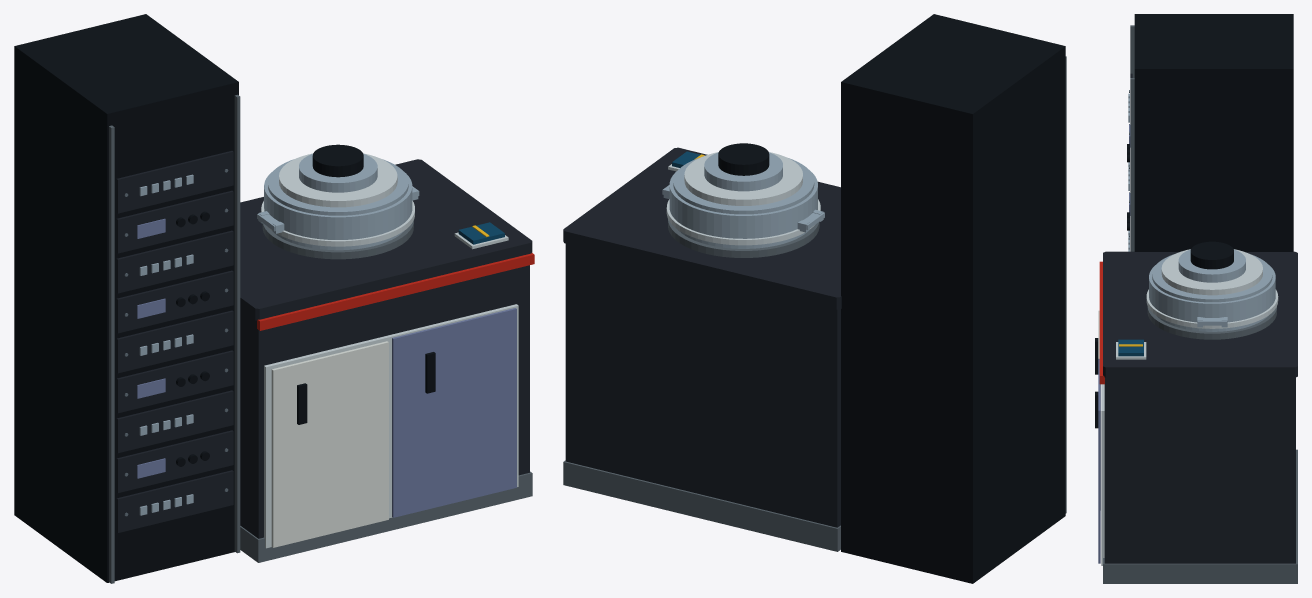
Rendered from bjd-1800-witness.glb.
3 renders of one model, left to right at view 1: azimuth 30°, elevation 25°; view 2: azimuth 150°, elevation 25°; view 3: azimuth 270°, elevation 25°, orthographic. The views are drawn at different scales.
Parts seen in each view (by area): view 1: bench, intake_rack, static_panels, display_cover, chamber_base, optical_card; view 2: intake_rack, bench, display_cover, chamber_base; view 3: bench, intake_rack, display_cover, chamber_base, optical_card, static_panels.
Part boxes in pixels (box(x1,y1,x2,y2)): bench: box(240, 159, 534, 562); intake_rack: box(14, 14, 240, 583); static_panels: box(116, 151, 233, 532); display_cover: box(257, 144, 419, 246); chamber_base: box(262, 220, 413, 259); optical_card: box(454, 222, 508, 249); intake_rack: box(841, 14, 1066, 583); bench: box(563, 147, 841, 551); display_cover: box(662, 143, 824, 245); chamber_base: box(668, 219, 819, 257); bench: box(1095, 251, 1297, 583); intake_rack: box(1130, 14, 1293, 251); display_cover: box(1146, 241, 1278, 328); chamber_base: box(1147, 306, 1276, 339); optical_card: box(1116, 339, 1146, 359); static_panels: box(1127, 73, 1132, 251).
Bounding box in the file's own units: 1.52 × 1.67 × 0.7635.
